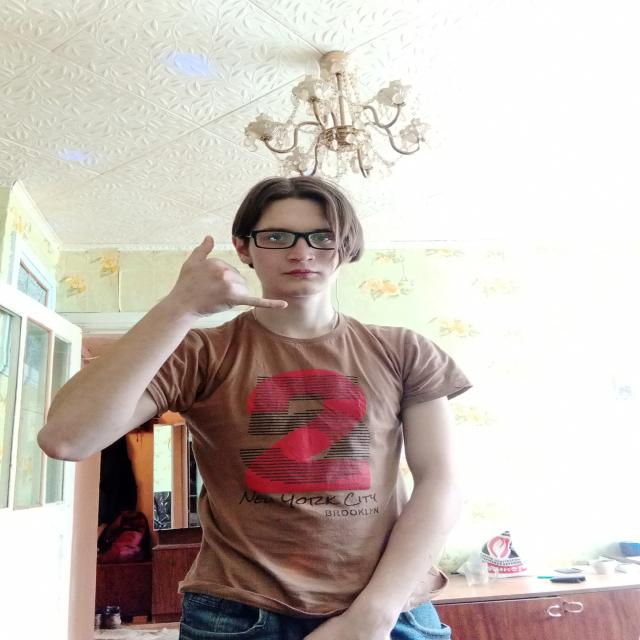call: (168, 234, 291, 318)
